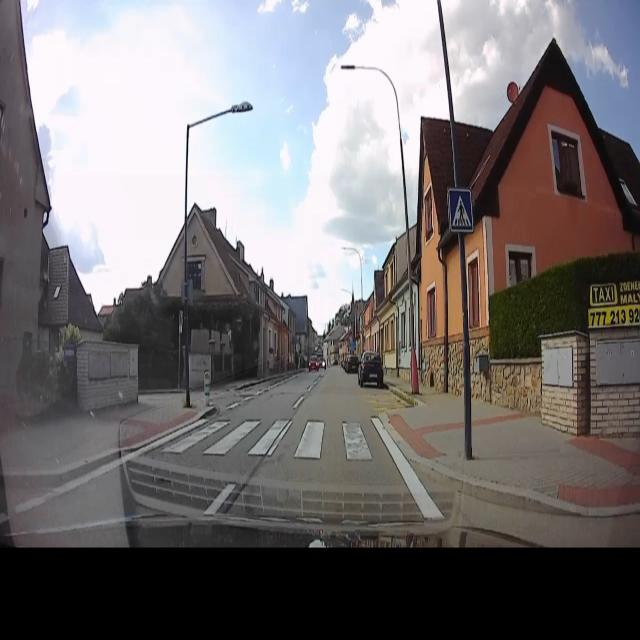Pedestrian crosswalk: (151, 401, 383, 467), (446, 186, 476, 234)
